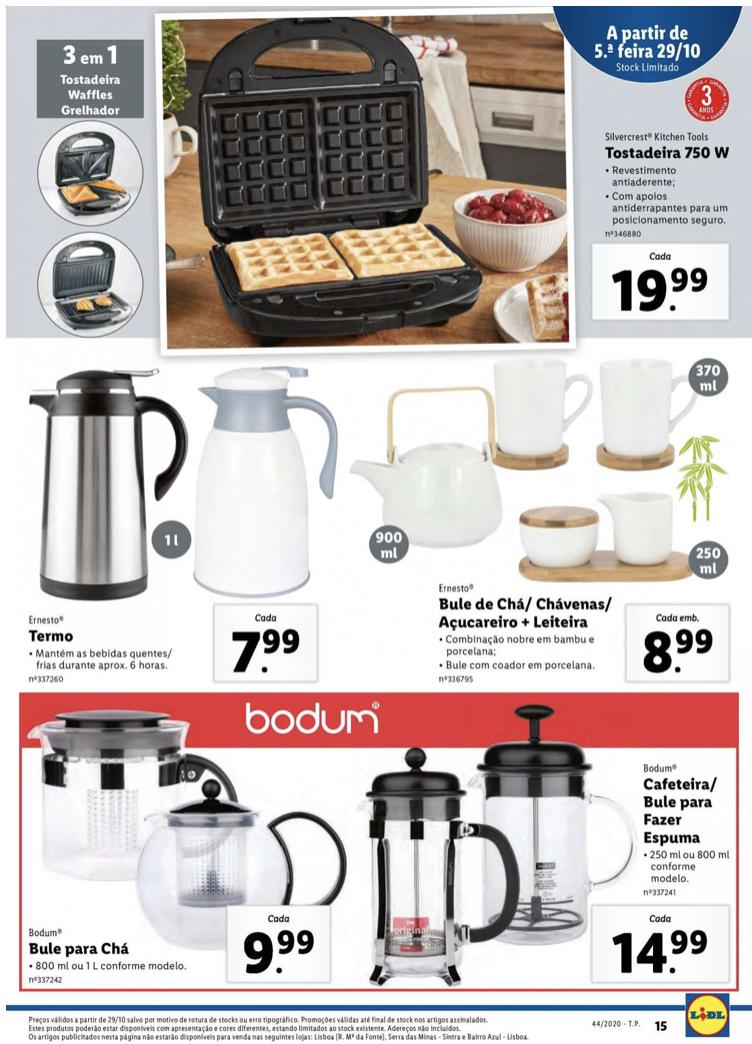name: (434, 595, 618, 632), (639, 774, 722, 848), (603, 139, 738, 167), (25, 939, 137, 960), (24, 628, 83, 648)
price: (605, 261, 714, 317), (605, 930, 709, 983), (225, 627, 304, 682), (637, 626, 716, 680), (239, 927, 317, 979)
product: (18, 21, 750, 341), (329, 347, 742, 687), (25, 356, 329, 687), (14, 705, 353, 988), (365, 743, 737, 989)
